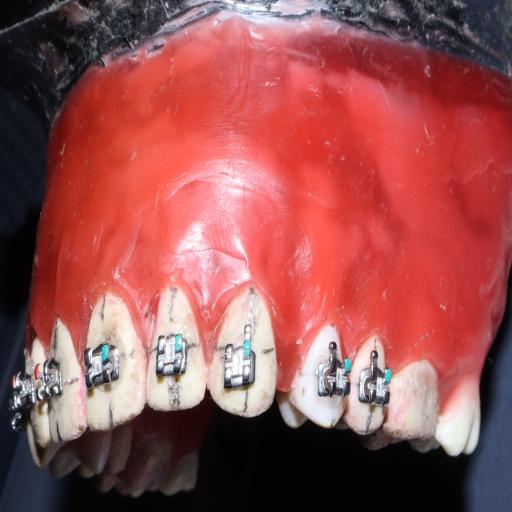incorrect_brace: (148, 285, 206, 416), (221, 339, 257, 388), (154, 334, 192, 379)
